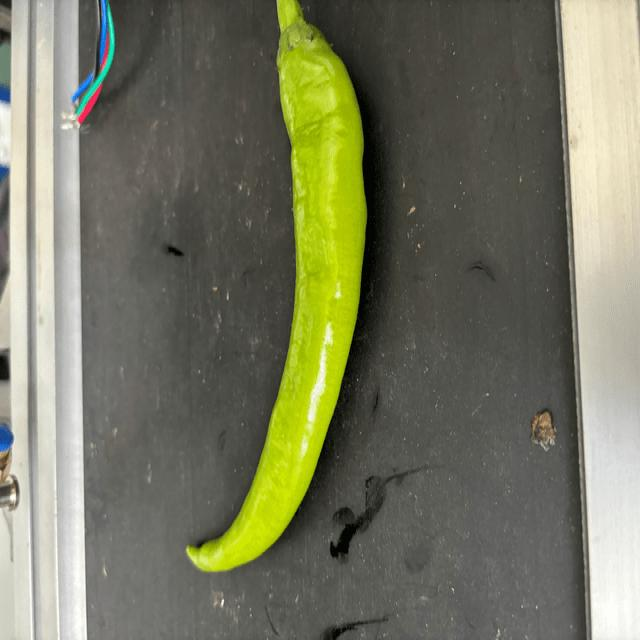chili: (181, 18, 370, 574)
